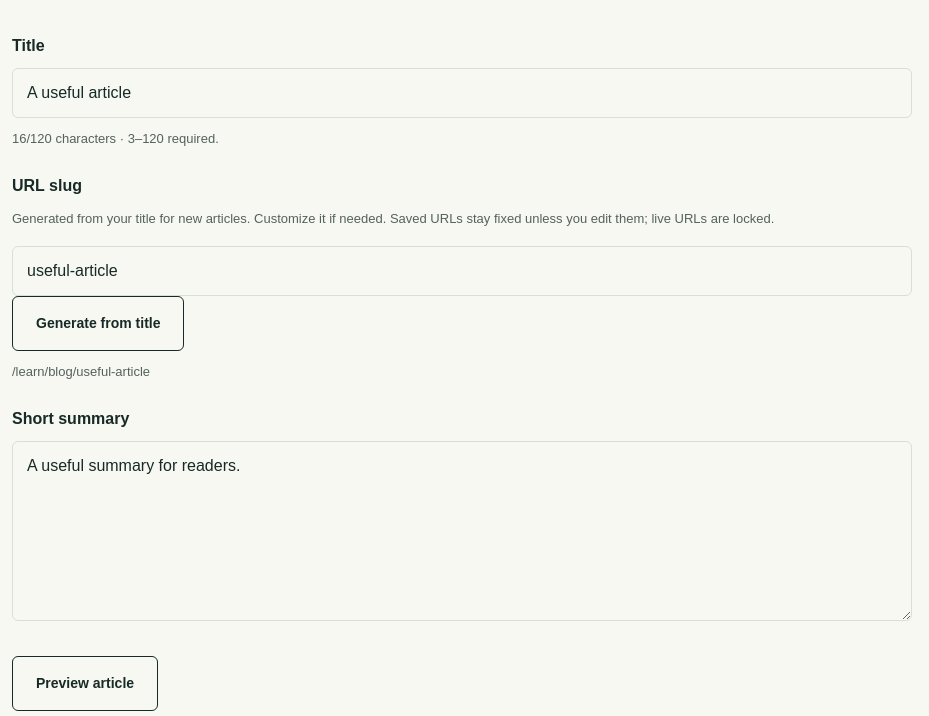
previews locally without publishing or saving
Click the button "Preview article". click: (85, 684)
box: [12,656,158,712]
(page scrolled)
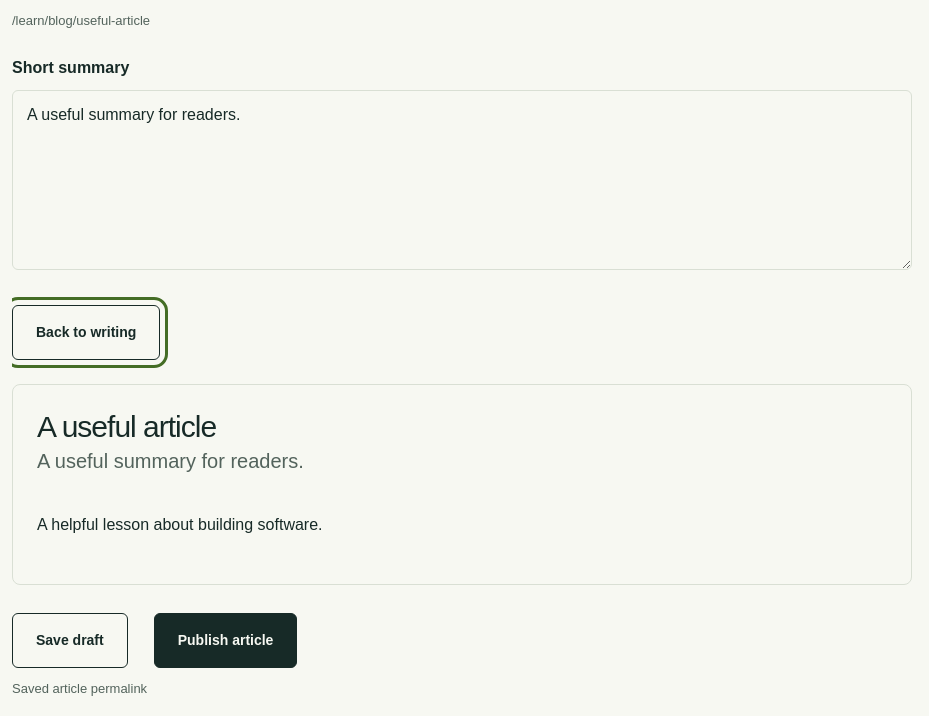
expect the element named "Article preview" shows "A helpful lesson about building software.": met, box [37,516,322,534]
